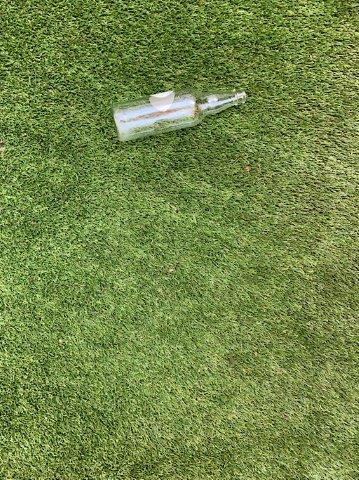botolkaca: (109, 90, 249, 140)
